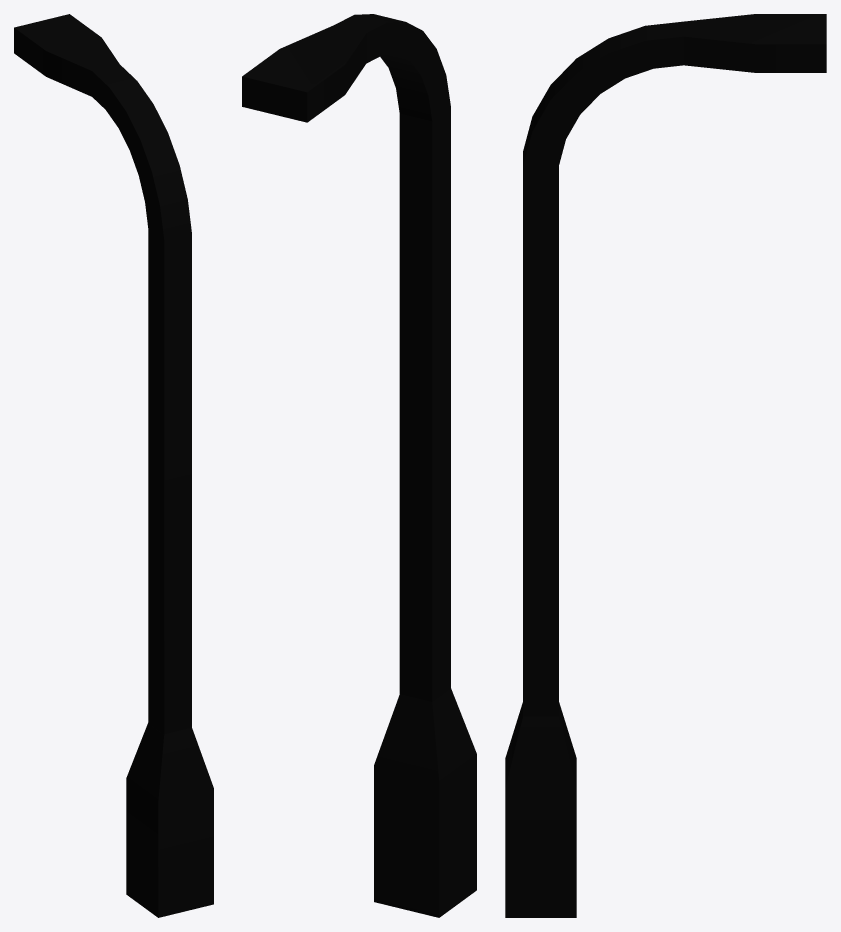
The model's file is light-curved.glb.
3 views of the same model, side by side, from view 1: azimuth 30°, elevation 25°; view 2: azimuth 150°, elevation 25°; view 3: azimuth 270°, elevation 25° (orthographic). The views are drawn at different scales.
Visible parts, largest first — view 1: light-curved; view 2: light-curved; view 3: light-curved.
Part boxes in pixels (x1=…): light-curved: x1=14, y1=14, x2=213, y2=917; light-curved: x1=242, y1=14, x2=476, y2=917; light-curved: x1=505, y1=14, x2=826, y2=917.
Size of the model in its own units: 0.05 by 0.675 by 0.225.
Materials: 1 (1 with a texture image).
